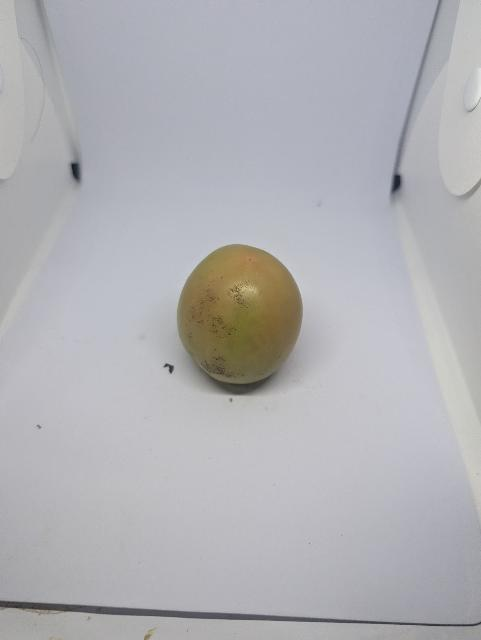breaker: (174, 243, 311, 394)
